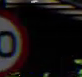Speed limit: (0, 9, 27, 74)
